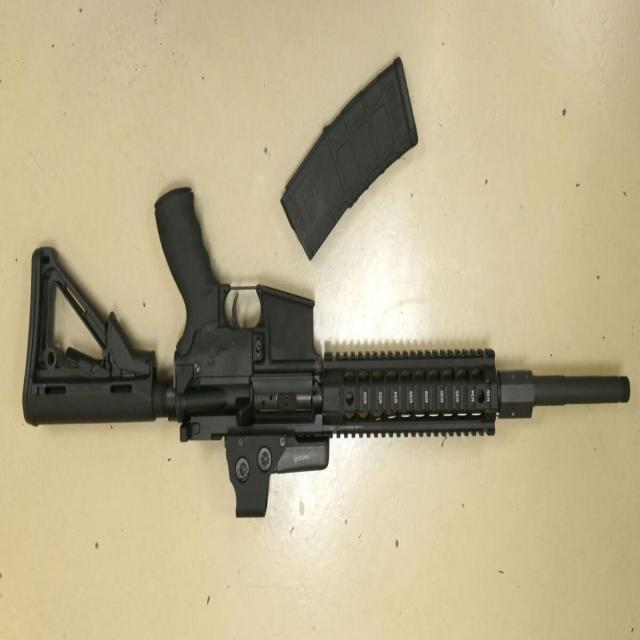weapon: (22, 181, 632, 519)
